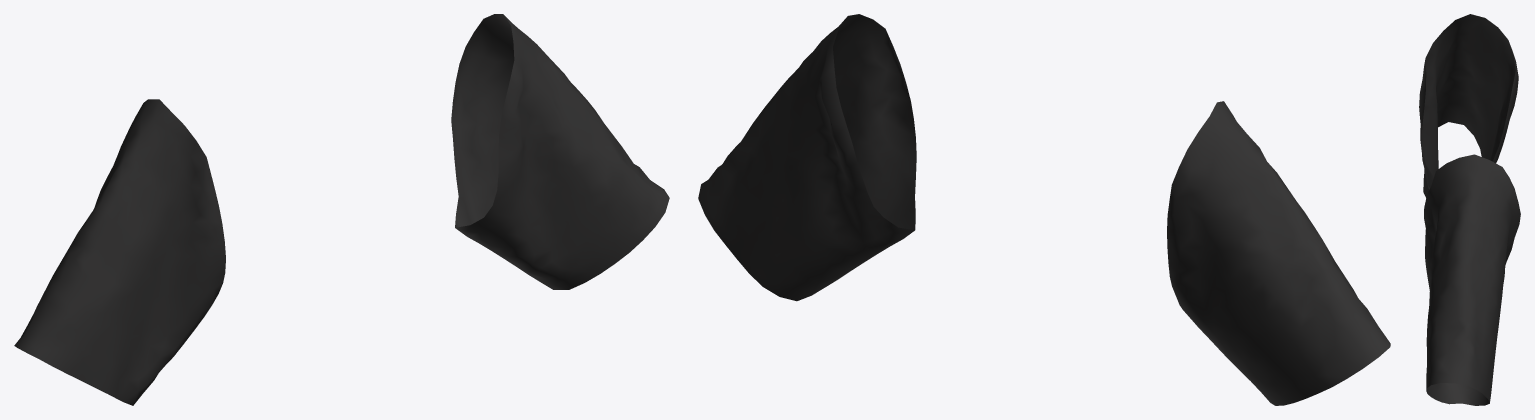
Rendered from rukovakorot.gltf.
3 views of the same model, side by side, from view 1: azimuth 30°, elevation 25°; view 2: azimuth 150°, elevation 25°; view 3: azimuth 270°, elevation 25° (orthographic). The views are drawn at different scales.
Parts seen in each view (by area): view 1: rukovakorot; view 2: rukovakorot; view 3: rukovakorot.
Part boxes in pixels (box(x1,y1,x2,y2)): rukovakorot: box(14, 14, 669, 405); rukovakorot: box(698, 14, 1390, 405); rukovakorot: box(1419, 14, 1520, 405).
Bounding box in the file's own units: 0.6362 × 0.2652 × 0.1048.
Materials: 1 (1 with a texture image).
